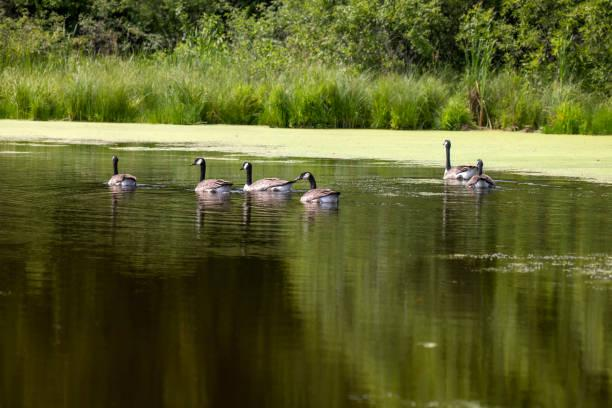Canadian-Goose: (189, 155, 234, 195), (240, 159, 293, 192), (299, 171, 338, 208), (107, 153, 140, 190), (438, 139, 464, 177), (467, 158, 494, 190)
